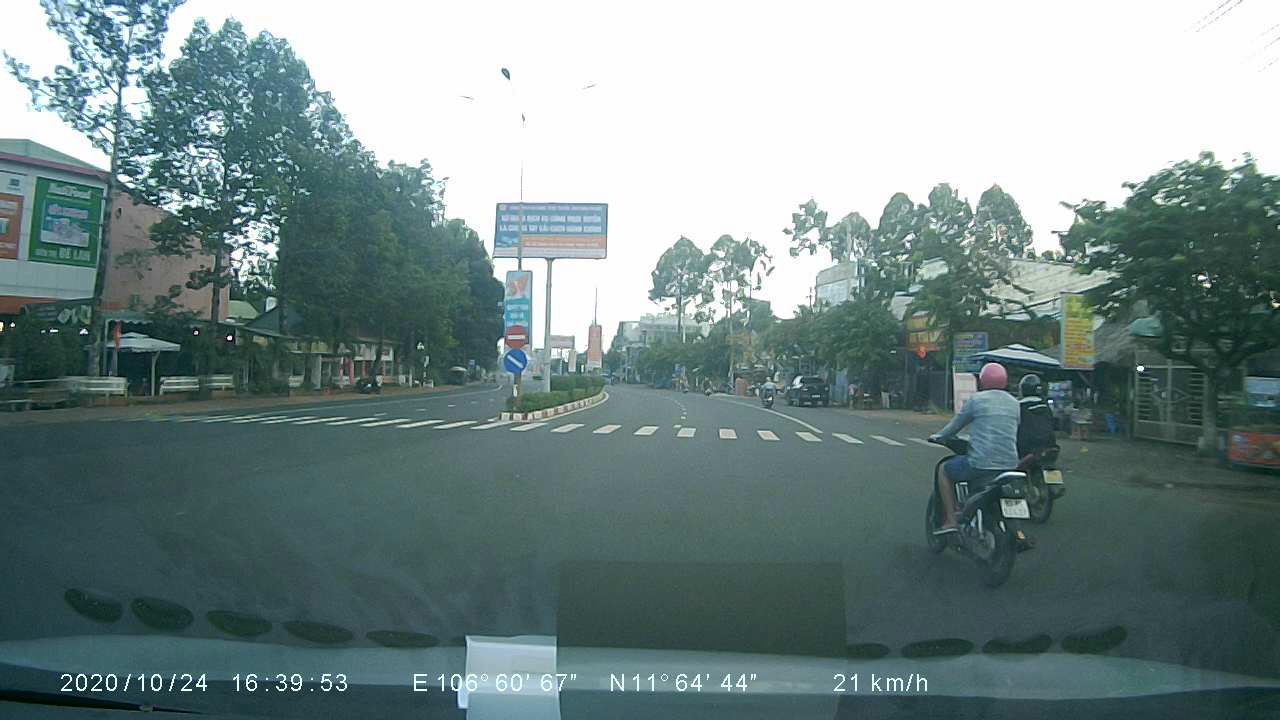Cam di nguoc chieu: (498, 324, 530, 351)
Huong di phai re phai: (498, 347, 530, 375)
